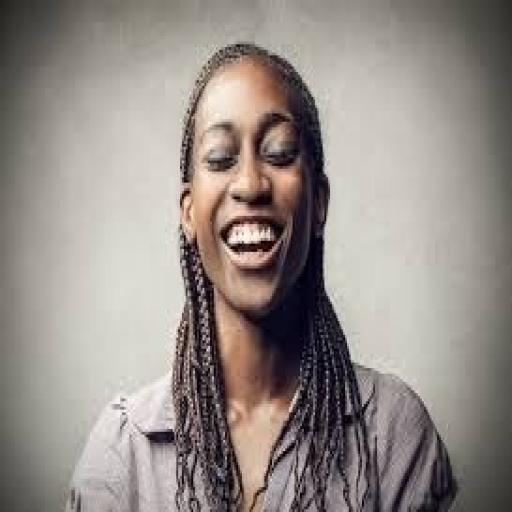laughing: (60, 33, 460, 509)
